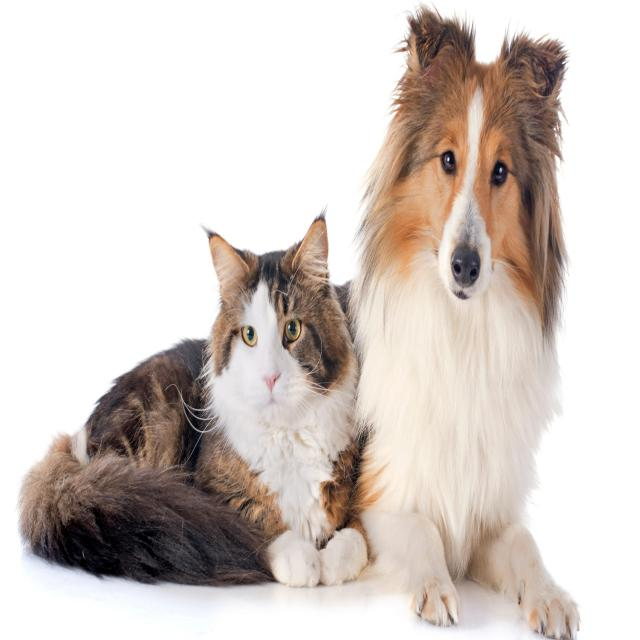cat: (26, 214, 370, 586)
dog: (350, 3, 598, 636)
